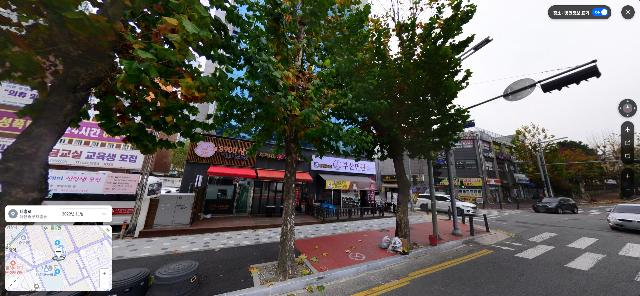other: (198, 1, 390, 283), (1, 1, 227, 234), (337, 1, 491, 250), (499, 122, 556, 209)
